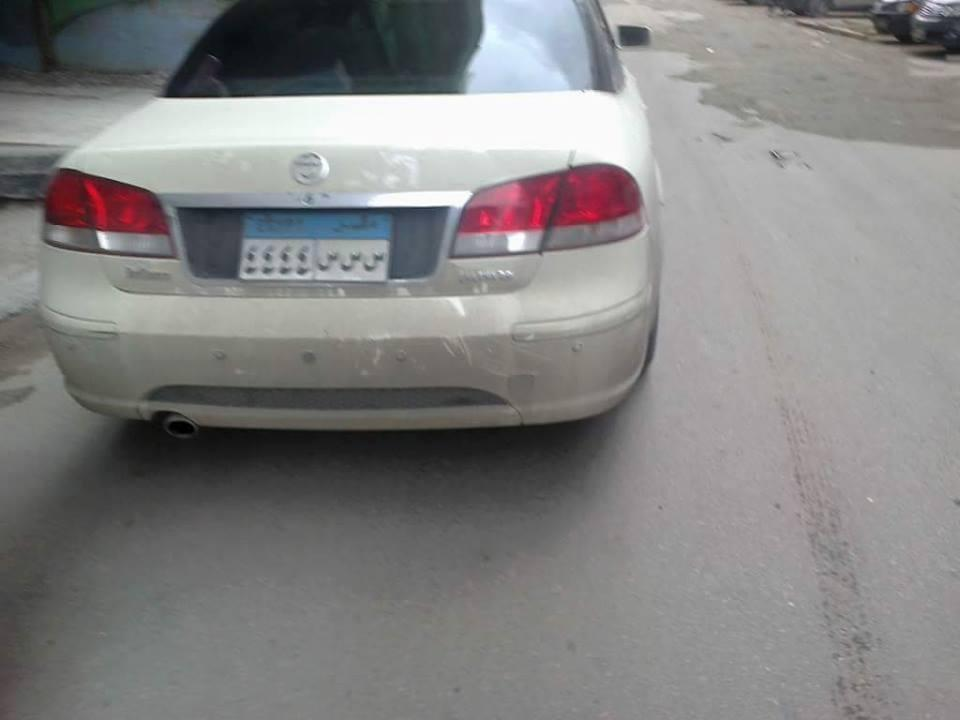4: (295, 241, 313, 278), (259, 243, 278, 276), (278, 242, 293, 278), (244, 243, 259, 276)
License Plate: (235, 210, 394, 286)
Seen: (362, 245, 387, 277), (318, 247, 340, 278), (339, 249, 362, 274)
car: (41, 0, 661, 446)
